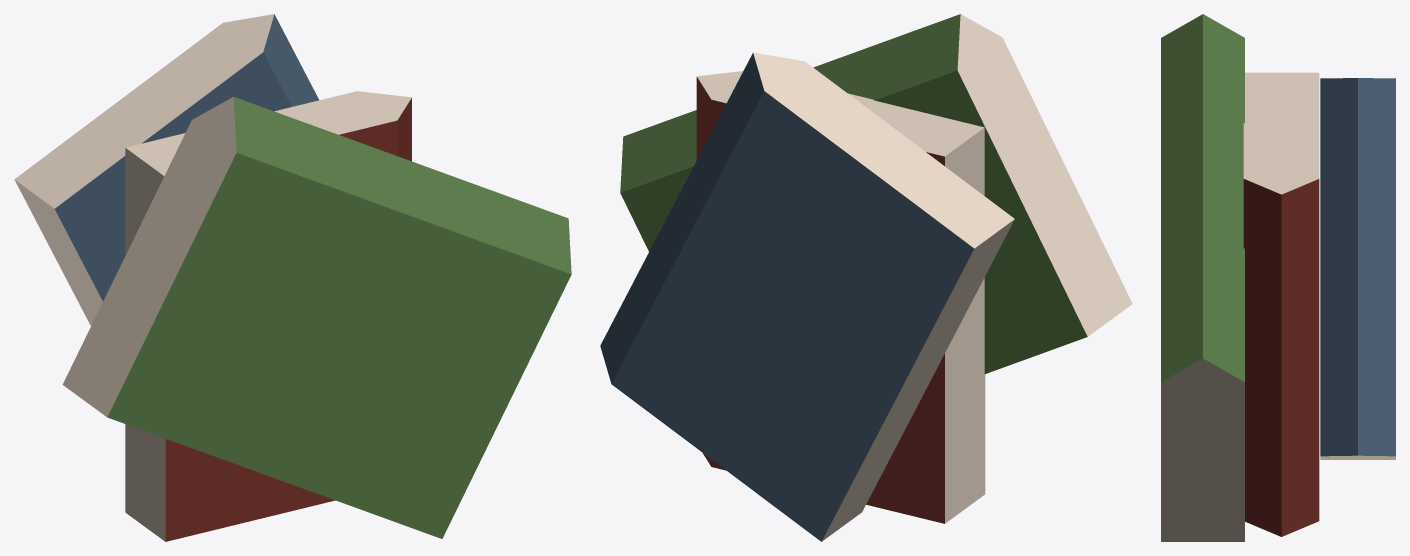
The model's file is Book_collection.fbx.
3 views of the same model, side by side, from view 1: azimuth 30°, elevation 25°; view 2: azimuth 150°, elevation 25°; view 3: azimuth 270°, elevation 25° (orthographic). The views are drawn at different scales.
Visible parts, largest first — view 1: Book collection; view 2: Book collection; view 3: Book collection.
Part boxes in pixels (<box>): Book collection: <box>14,14,571,541</box>; Book collection: <box>600,14,1132,541</box>; Book collection: <box>1161,14,1395,541</box>.
Size of the model in its own units: 107 by 99.8 by 47.98.
